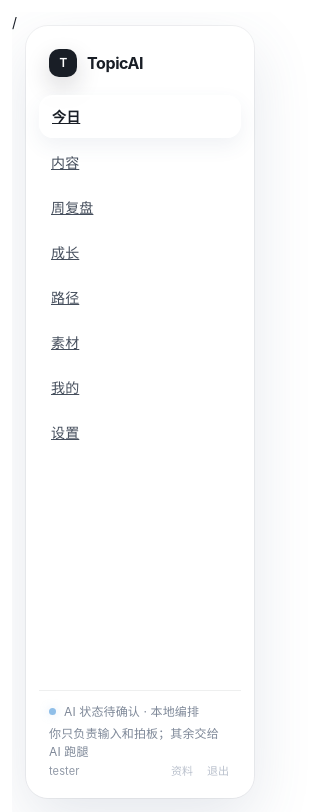
Test: Sidebar › opens the creator state from the user card
Click the button with aria-label "个人资料" at (182, 771), box [169,762,195,779]
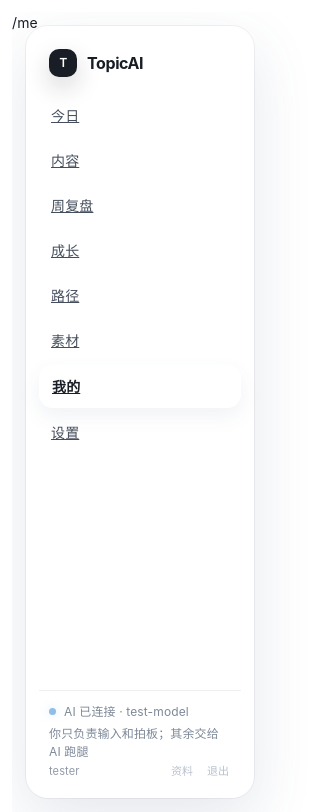
Expected: the text with test id "current-path" reads "/me", [12,14,38,31]
